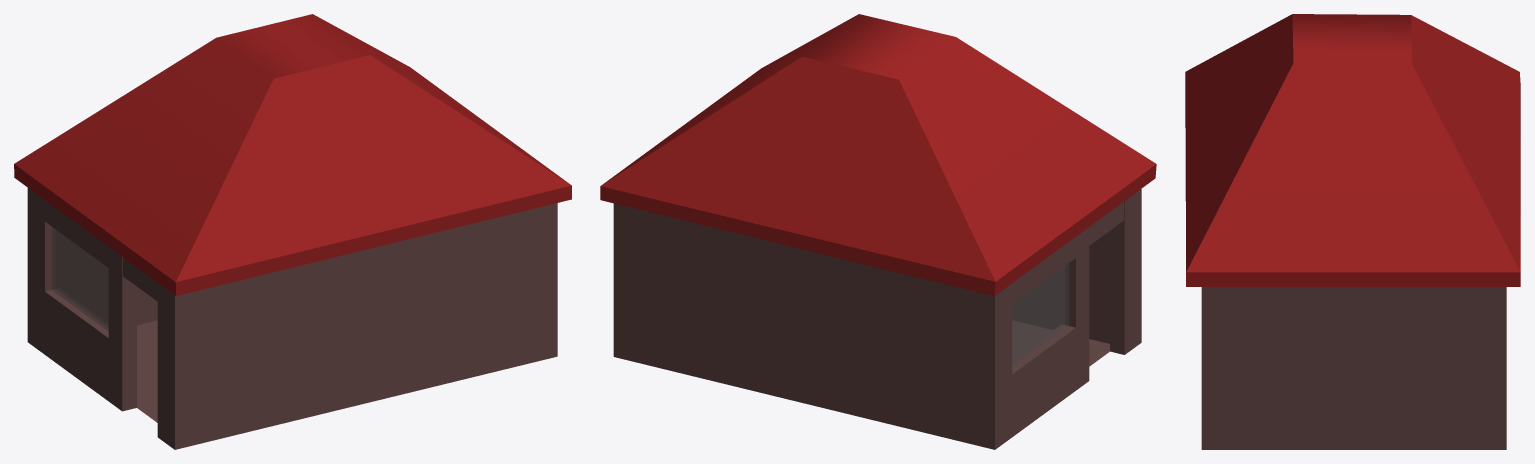
The model's file is tabakladen.fbx.
3 views of the same model, side by side, from view 1: azimuth 30°, elevation 25°; view 2: azimuth 150°, elevation 25°; view 3: azimuth 270°, elevation 25° (orthographic). The views are drawn at different scales.
Visible parts, largest first — view 1: roof, house, window2, pCube2; view 2: roof, house, window2, pCube2; view 3: roof, house.
Part boxes in pixels (bbox=[...]): roof: bbox=[14, 14, 571, 295]; house: bbox=[27, 188, 557, 449]; window2: bbox=[52, 227, 108, 330]; pCube2: bbox=[123, 257, 157, 301]; roof: bbox=[600, 14, 1156, 296]; house: bbox=[613, 189, 1141, 449]; window2: bbox=[1012, 263, 1068, 367]; pCube2: bbox=[1089, 202, 1123, 245]; roof: bbox=[1185, 14, 1520, 286]; house: bbox=[1201, 287, 1506, 449].
Size of the model in its own units: 6.21 by 4.56 by 4.4.
